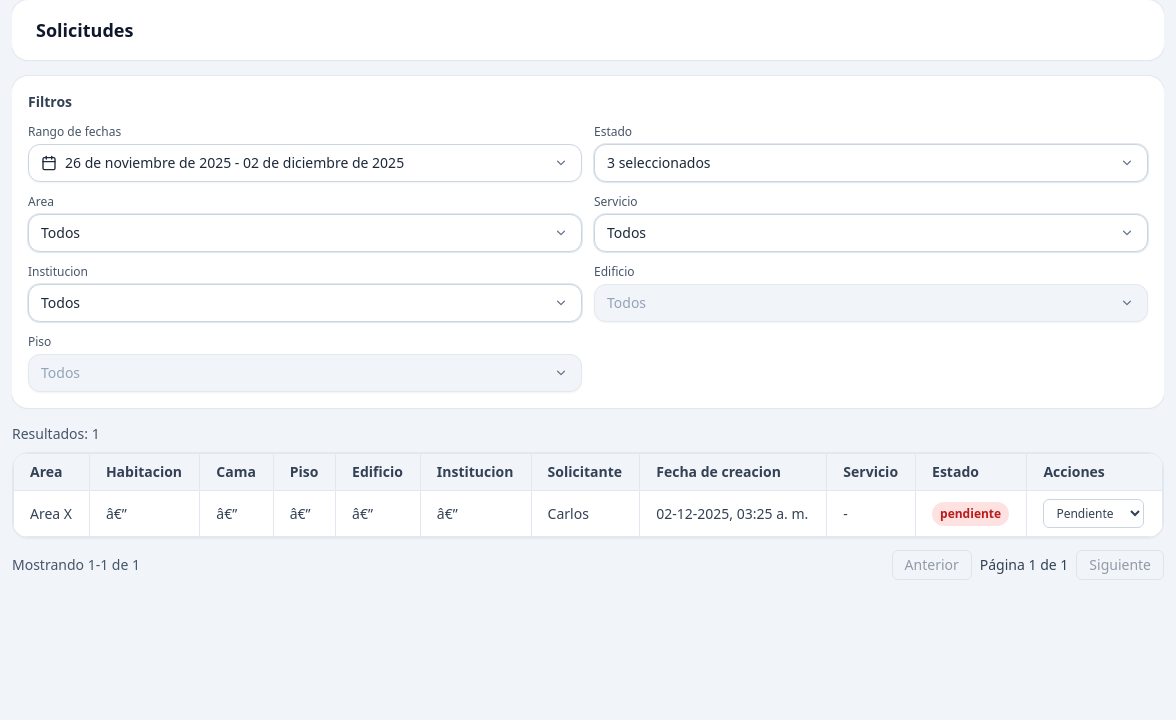
it: Solicitudes admin flows › toggles row expansion to show description
# click the row to expand
Click the text "Carlos" at coordinates (585, 514), box [531,490,640,536]
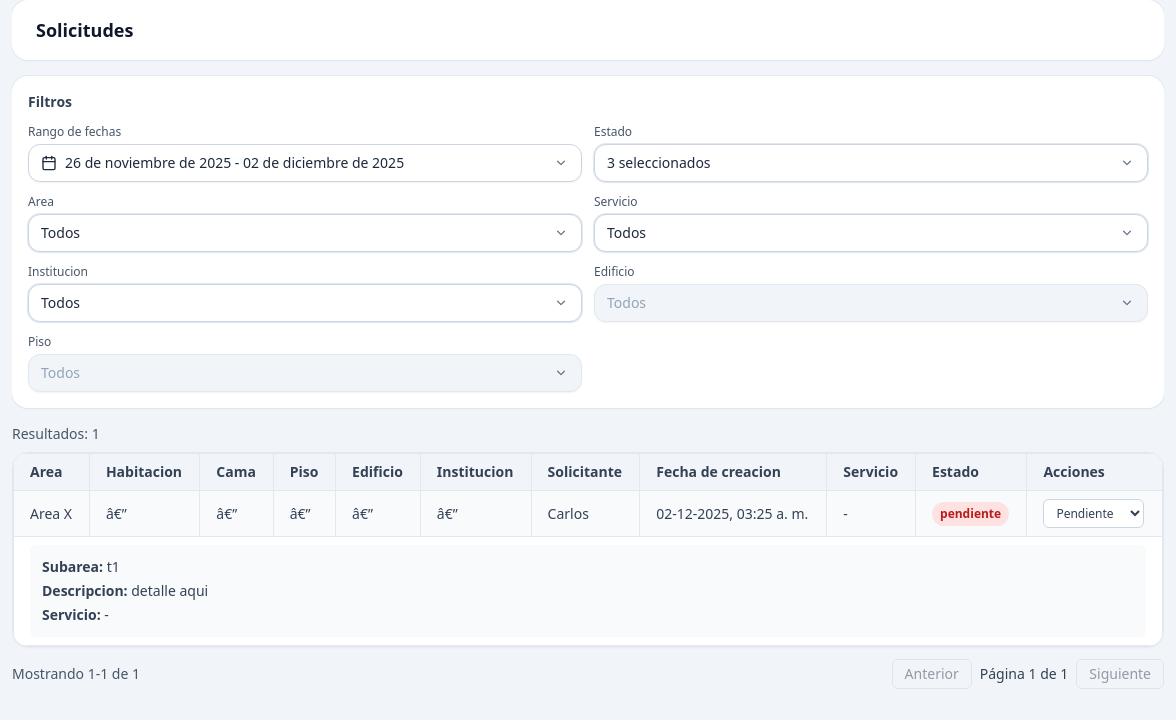
Result: the text "Descripcion: detalle aqui" is shown at [42,581,208,600]
